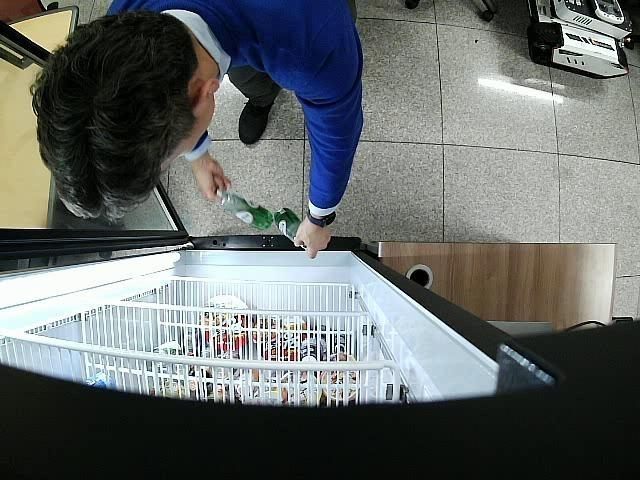18_trevi: (217, 188, 274, 231), (275, 208, 307, 247)
